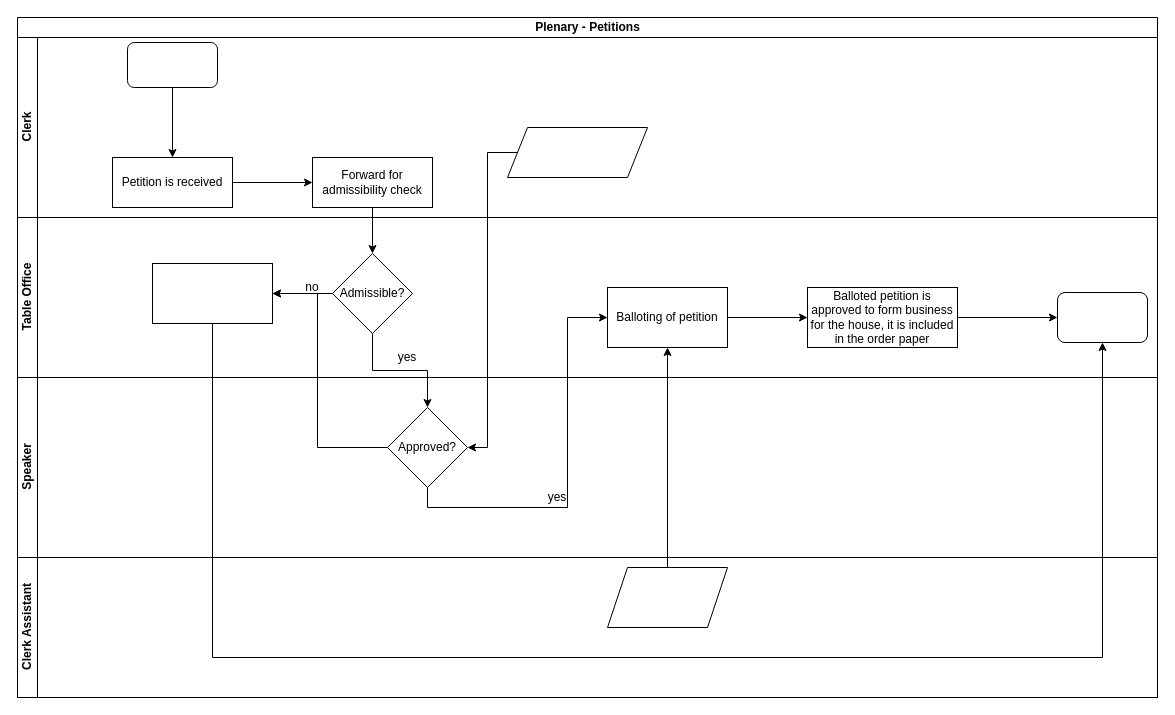
This 1175x715 diagram has some shape labels left out. Each missing label, with the box of its shape:
Clerks Approval input: (506, 126, 648, 178)
End: (1056, 292, 1148, 342)
Inform Clerk and Petitioner: (152, 262, 272, 324)
Participates in Balloting: (606, 566, 728, 628)
Start: (126, 42, 218, 88)
